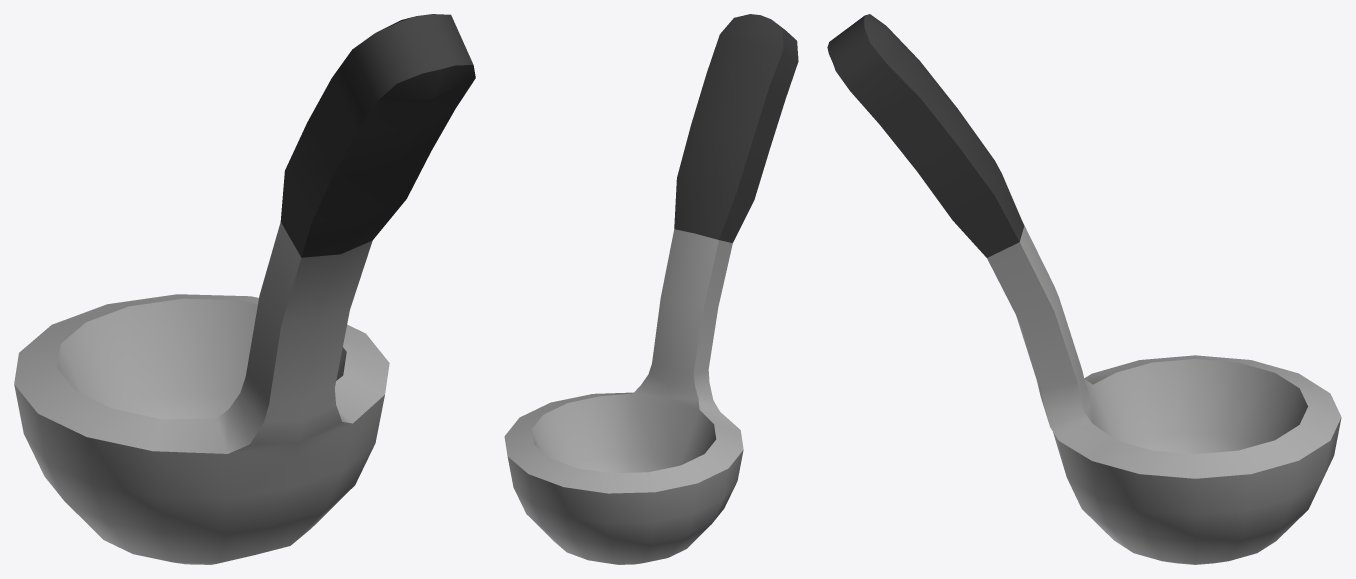
Rendered from Ladle_01.fbx.
3 renders of one model, left to right at view 1: azimuth 30°, elevation 25°; view 2: azimuth 150°, elevation 25°; view 3: azimuth 270°, elevation 25°, orthographic. The views are drawn at different scales.
Parts seen in each view (by area): view 1: Ladle_01; view 2: Ladle_01; view 3: Ladle_01.
Part boxes in pixels (x1,y1,x2,y2): Ladle_01: (14,14,475,564); Ladle_01: (504,14,798,564); Ladle_01: (827,14,1341,564).
Size of the model in its own units: 27.06 by 54.36 by 47.62.
